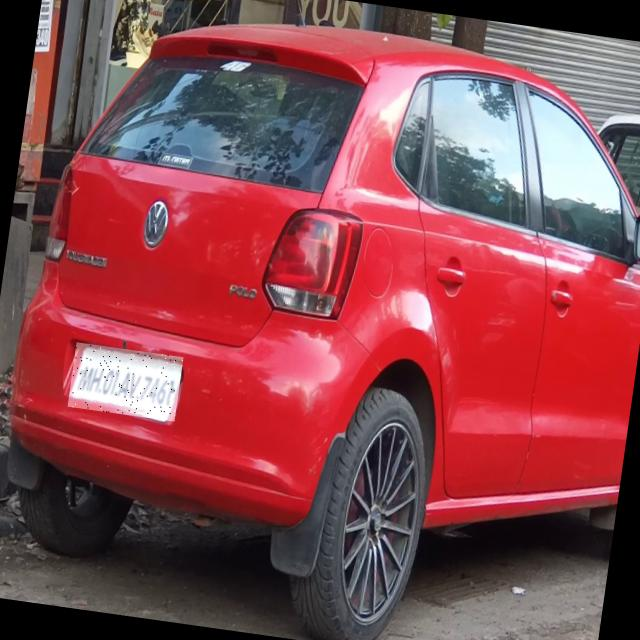Plate: (69, 344, 185, 423)
